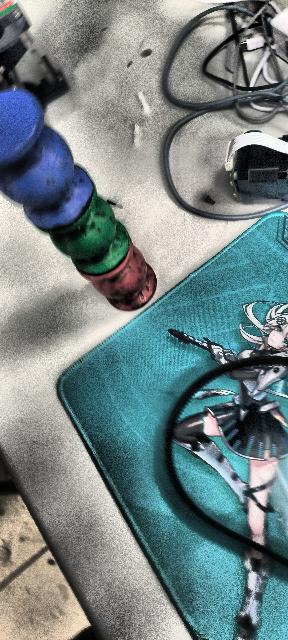blue: (0, 89, 89, 234)
green: (51, 177, 128, 278)
red: (75, 243, 156, 314)
